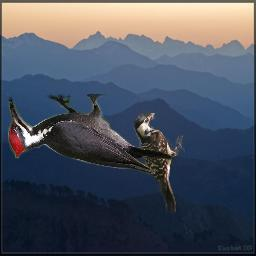Woodpecker: (8, 94, 173, 174), (134, 113, 185, 213)
